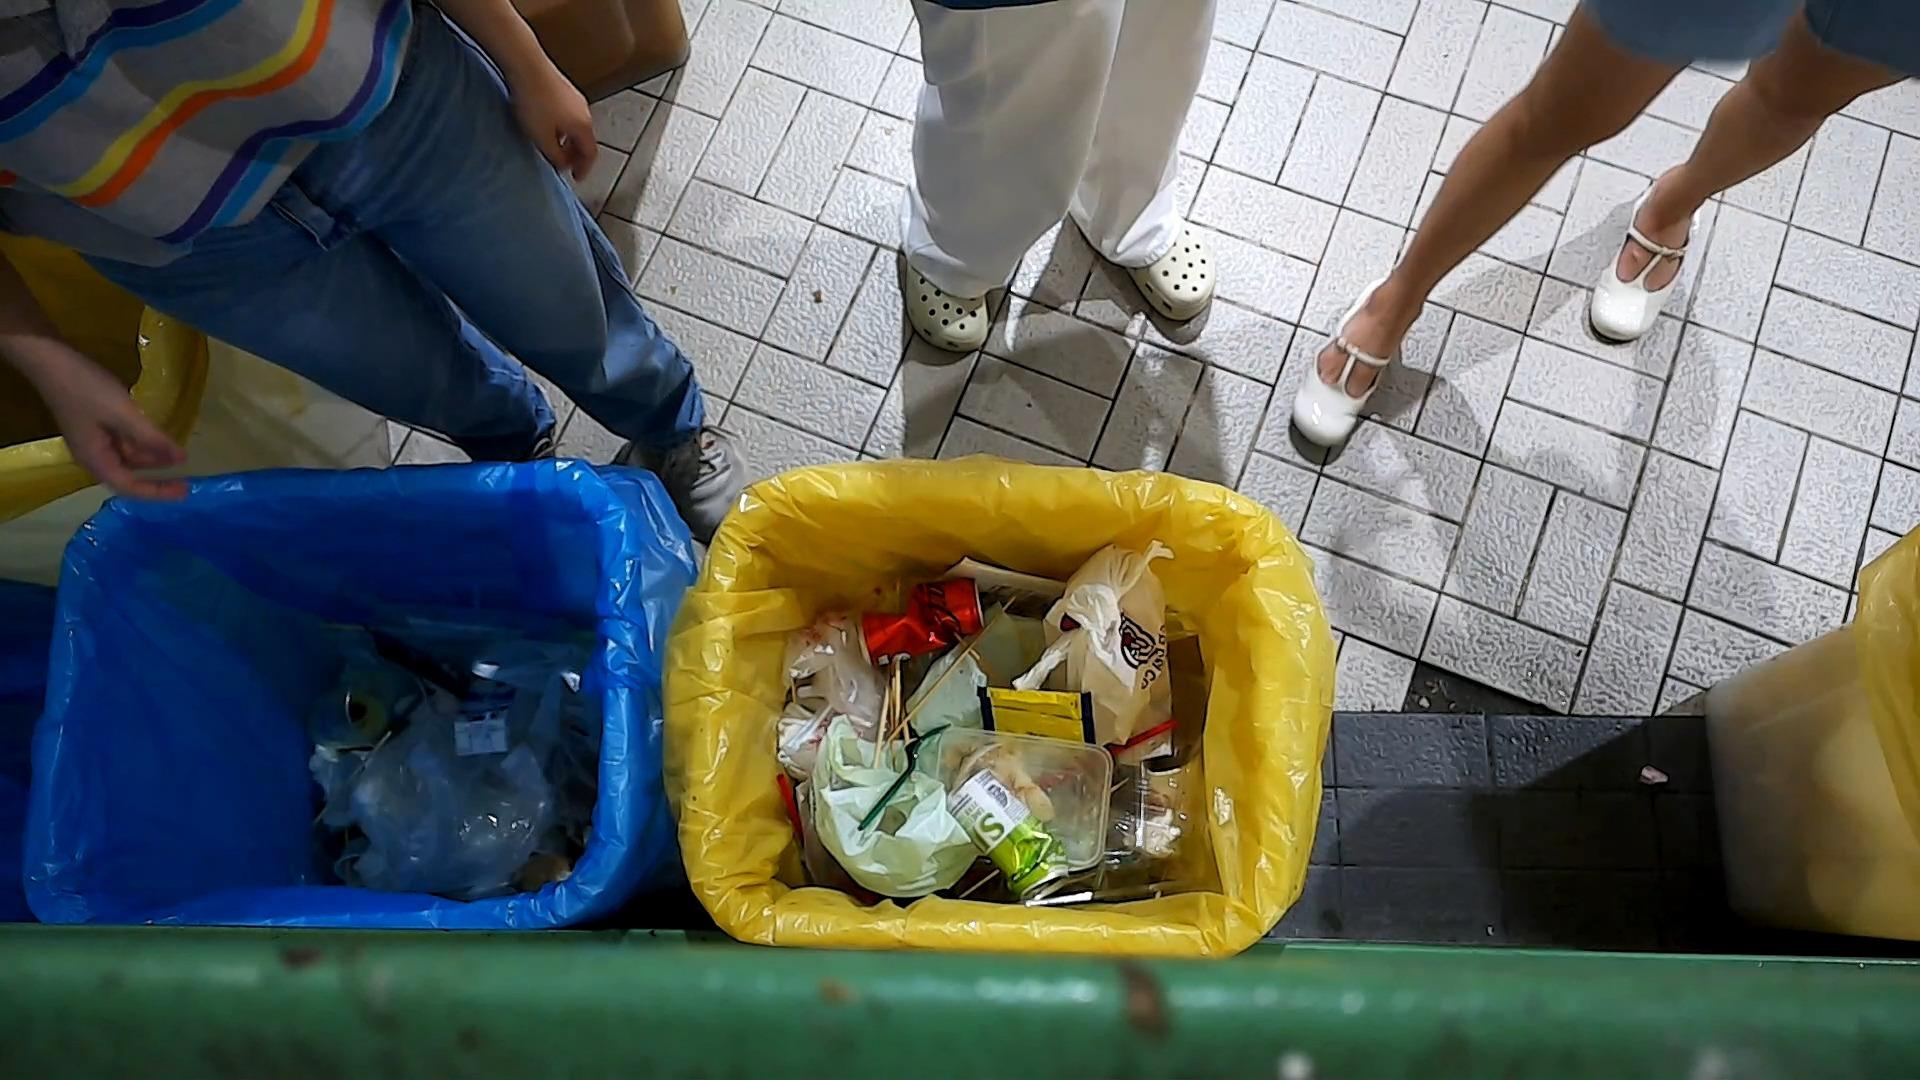can: (942, 762, 1072, 905), (853, 572, 989, 673)
dirty food container: (931, 721, 1116, 874)
filled plastic bag: (1011, 538, 1182, 760), (802, 707, 989, 903)
milk carton: (450, 661, 524, 761)
plastic bag: (344, 654, 564, 906), (775, 597, 885, 748)
plastic cup: (301, 655, 433, 756)
plastic cutlery: (852, 720, 953, 835)
snack packaging: (972, 683, 1097, 745)
sticks: (885, 593, 1019, 744), (305, 753, 398, 831)
straw: (1108, 713, 1187, 758), (773, 770, 807, 853)
